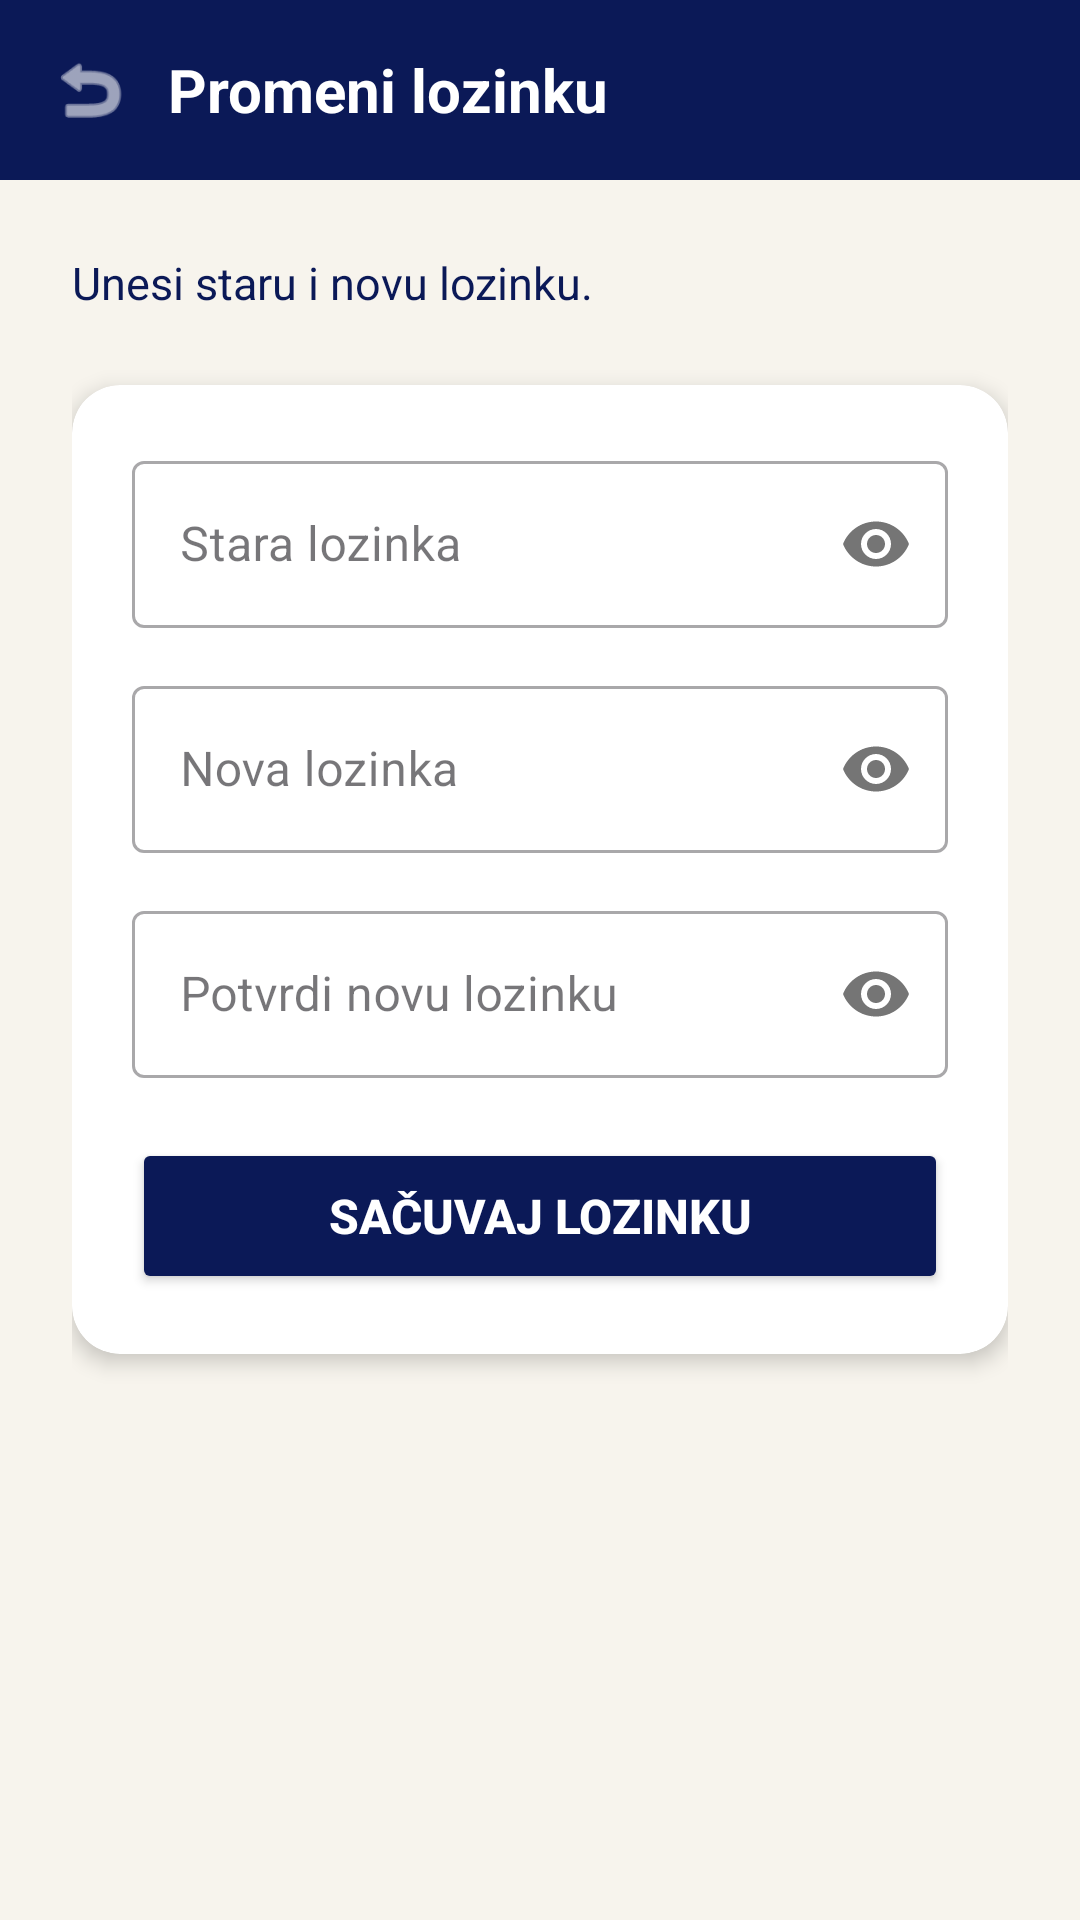

Named icons in this screenshot (1080w x 1920h) and their centers, (x=x, y=y):
Nazad: (x=91, y=90)
